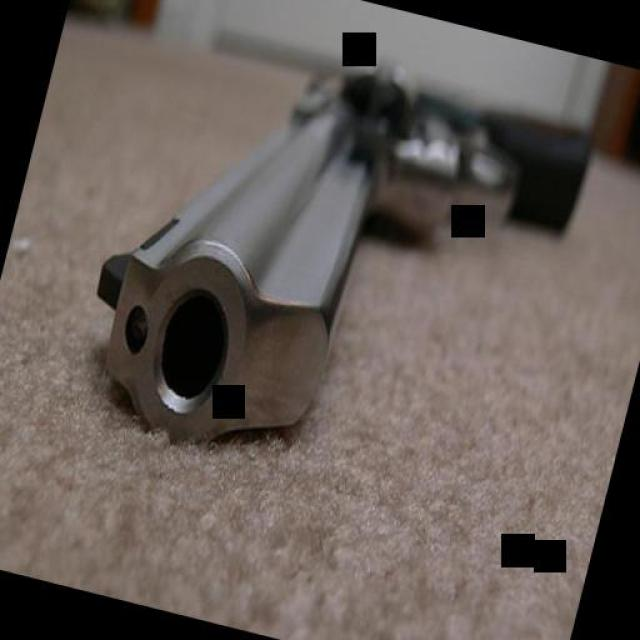gun: (58, 11, 598, 501)
